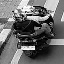motor: (12, 5, 53, 59)
